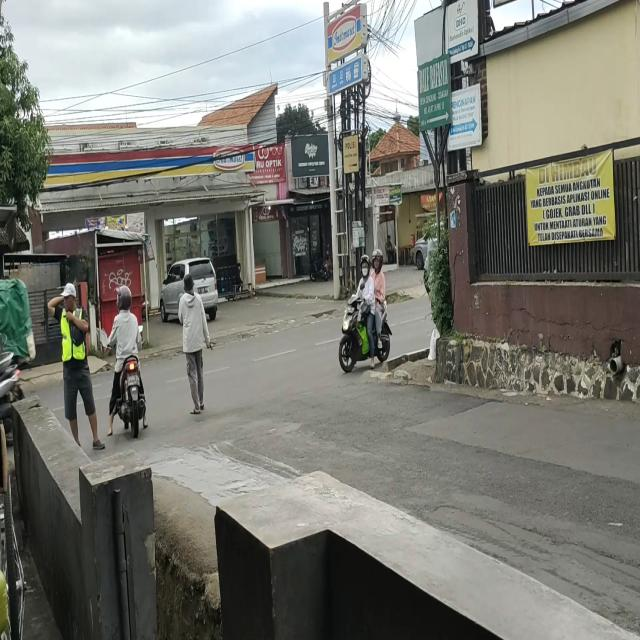helmet: (116, 282, 132, 314), (359, 252, 370, 280), (373, 248, 383, 273)
